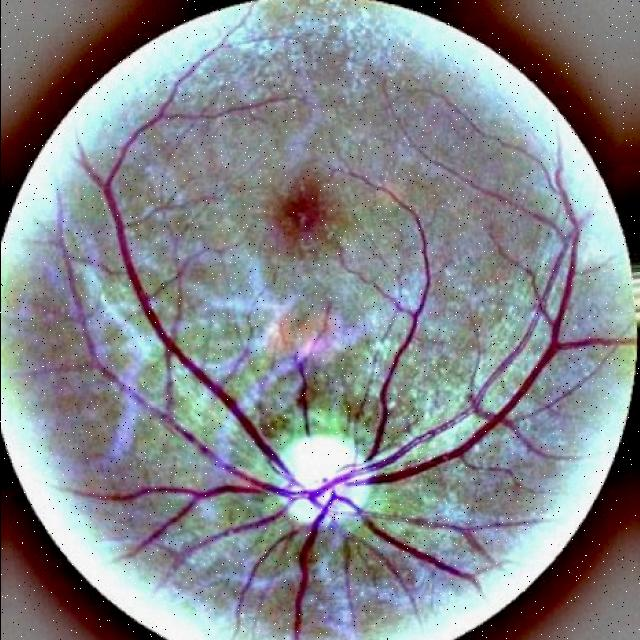Macula: (276, 180, 325, 246)
Nerves: (77, 104, 633, 640)
Optic Disk: (275, 437, 369, 526)
